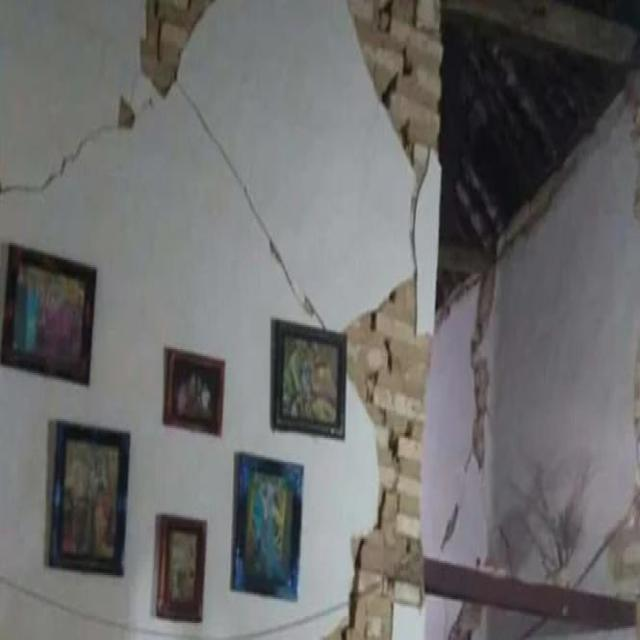damage: (312, 240, 430, 640), (171, 74, 324, 329), (343, 0, 447, 208), (0, 91, 127, 209), (124, 0, 218, 127), (462, 239, 499, 502), (593, 458, 640, 636), (446, 558, 494, 640)
